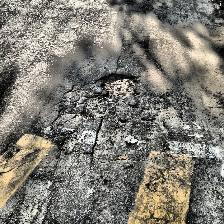pothole: (96, 73, 142, 101), (82, 93, 112, 118), (59, 132, 79, 156)
